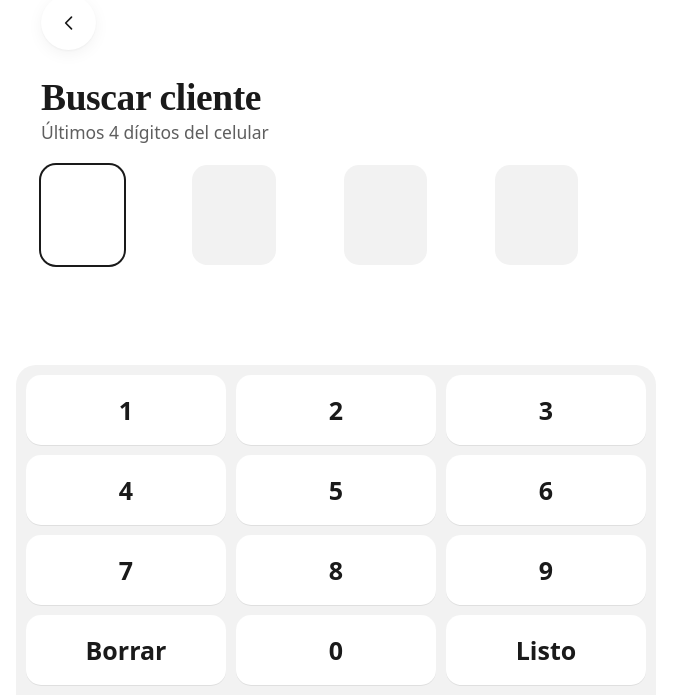
it: 06 · Buscar cliente › shows the empty state
Click the button "0" at (336, 650), box [236, 615, 436, 685]
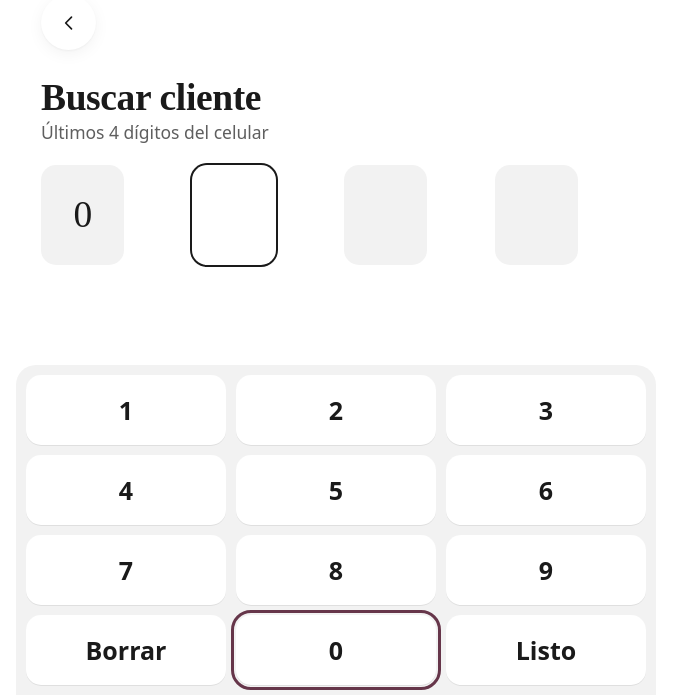
Click the button "0" at (336, 650), box [236, 615, 436, 685]
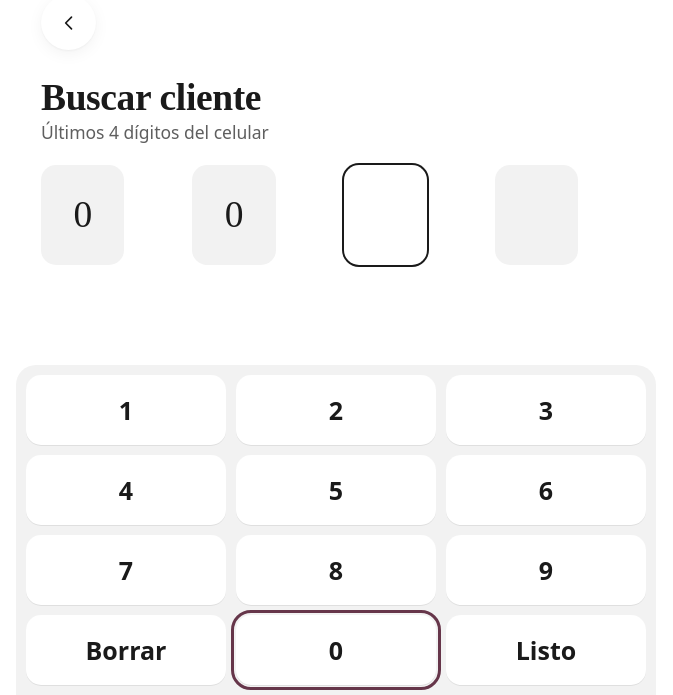
Click the button "0" at (336, 650), box [236, 615, 436, 685]
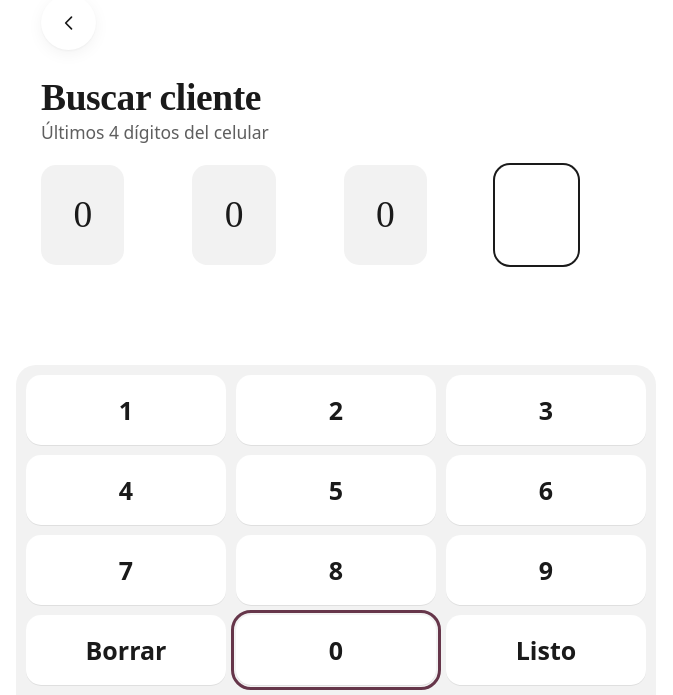
Click the button "0" at (336, 650), box [236, 615, 436, 685]
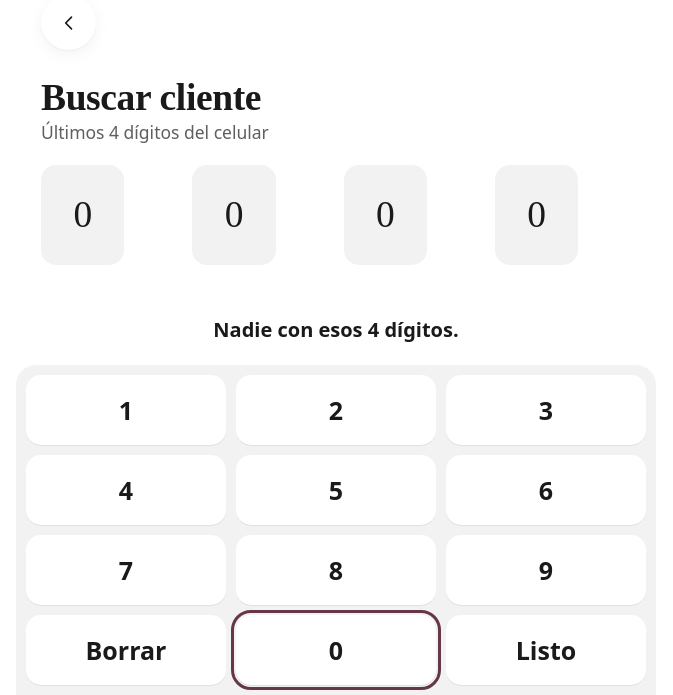
Expected: the text "Nadie con esos 4 dígitos." is shown, [213, 316, 459, 343]
